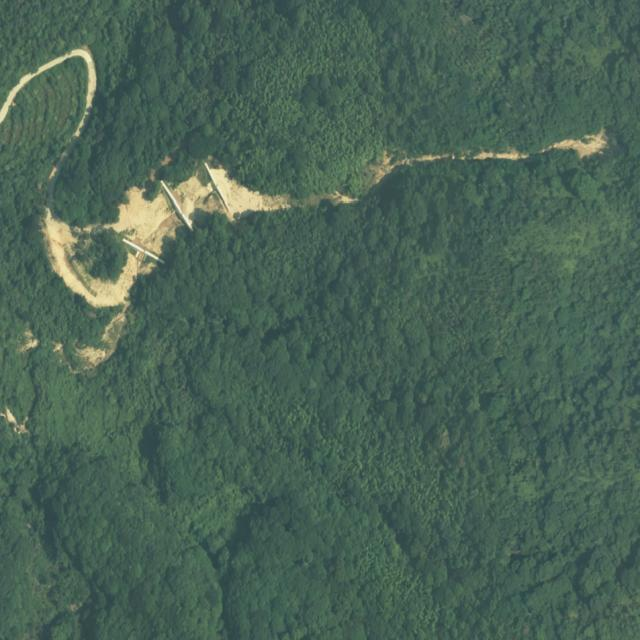landslide: (365, 128, 610, 192), (44, 207, 138, 307), (107, 188, 171, 242), (111, 186, 170, 239), (230, 179, 266, 211), (179, 176, 207, 202), (320, 191, 359, 204)
